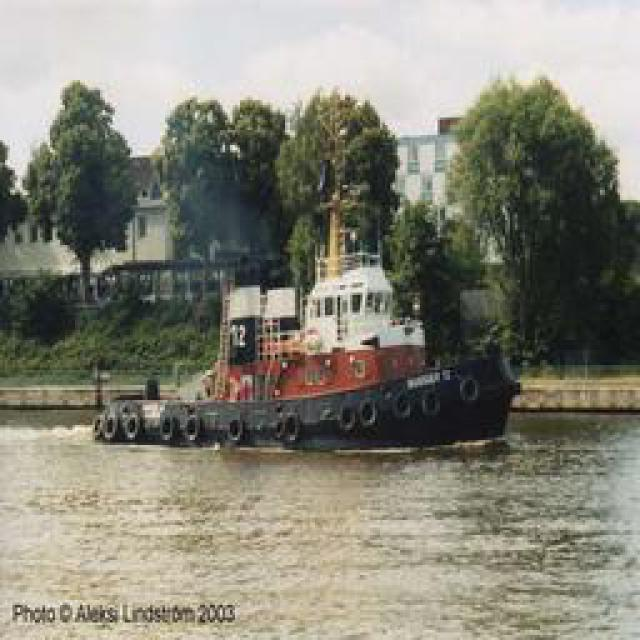Ship: (84, 87, 530, 459)
